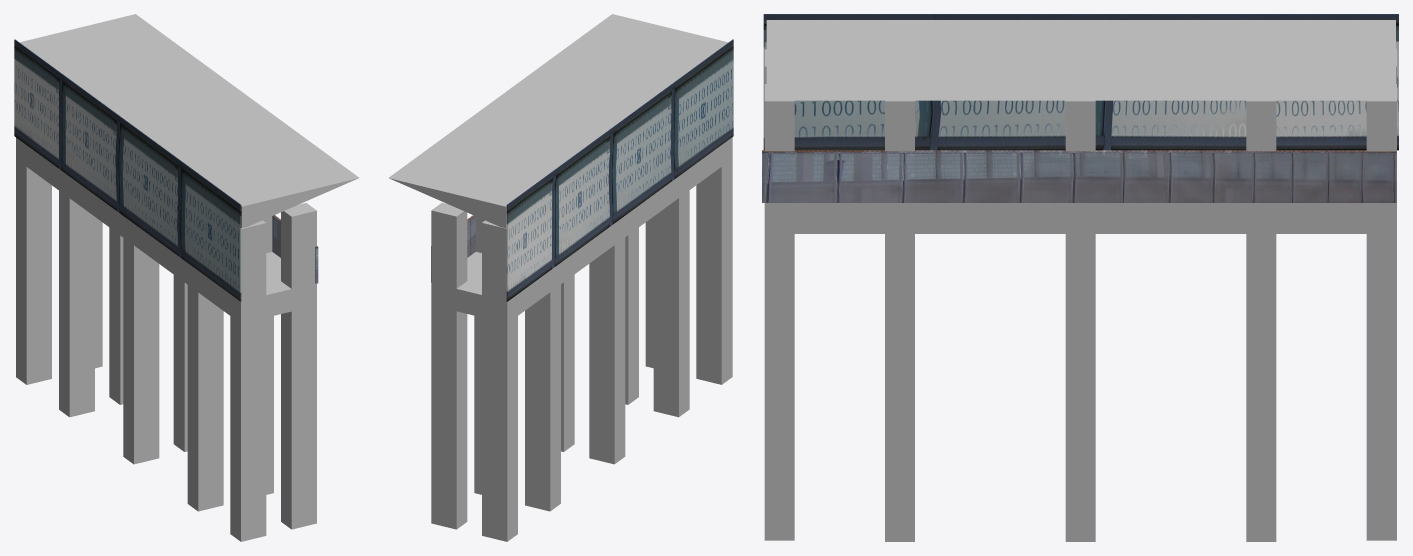
Rendered from BinaryBridge.fbx.
The picture shows the model from 3 angles, left to right: view 1: azimuth 30°, elevation 25°; view 2: azimuth 150°, elevation 25°; view 3: azimuth 270°, elevation 25°; orthographic projection. The views are drawn at different scales.
Visible parts, largest first — view 1: Cube, Cube.001, Plane, Plane.001; view 2: Cube, Cube.001, Plane; view 3: Cube, Cube.001, Plane.001, Plane.
Part boxes in pixels (x1,y1,x2,y2): Cube: [16, 137, 316, 541]; Cube.001: [19, 14, 359, 227]; Plane: [14, 39, 241, 301]; Plane.001: [272, 215, 318, 283]; Cube: [431, 137, 732, 541]; Cube.001: [389, 14, 728, 228]; Plane: [506, 39, 733, 301]; Cube: [764, 49, 1396, 541]; Cube.001: [766, 20, 1395, 100]; Plane.001: [762, 150, 1396, 202]; Plane: [763, 14, 1398, 150].
Bounding box in the file's own units: 1122 × 3016 × 3662.
